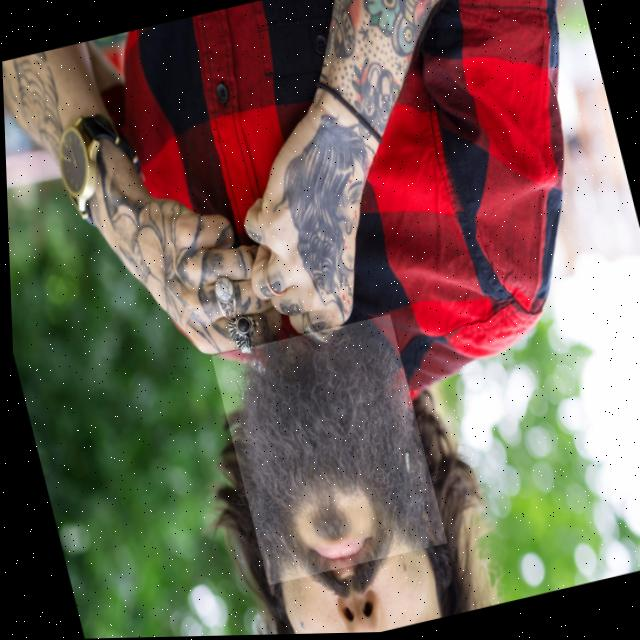beard: (237, 331, 422, 570)
